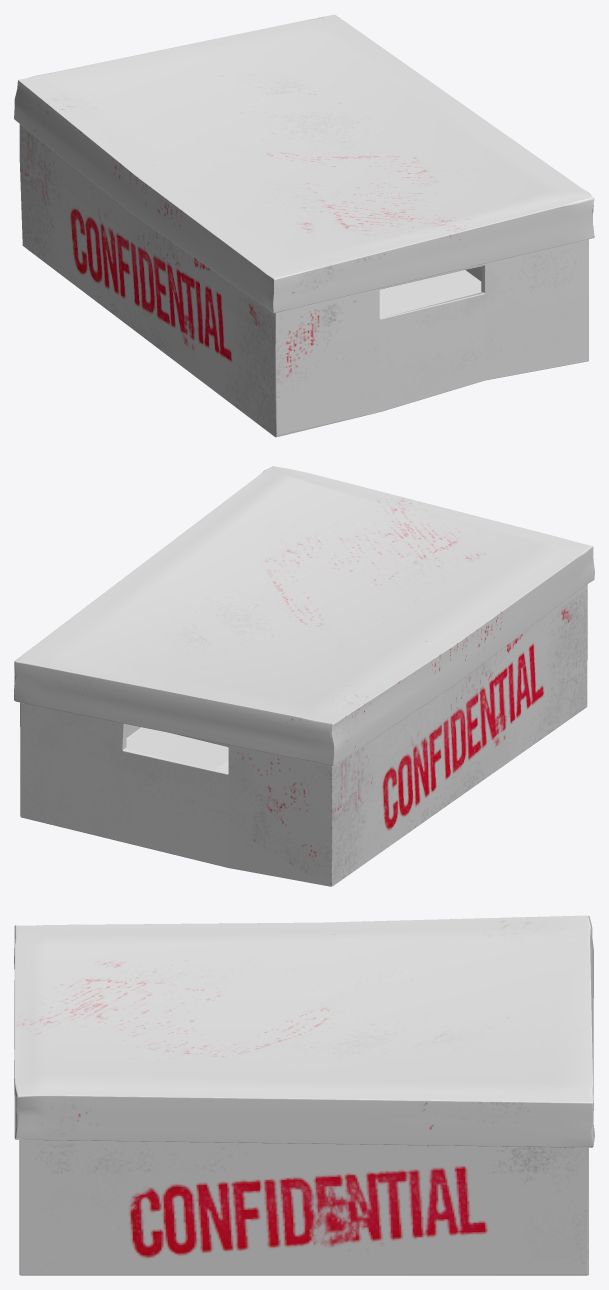
The picture shows the model from 3 angles, top to bottom: view 1: azimuth 30°, elevation 25°; view 2: azimuth 150°, elevation 25°; view 3: azimuth 270°, elevation 25°; orthographic projection. The views are drawn at different scales.
Visible parts, largest first — view 1: pCube2, pCube1; view 2: pCube2, pCube1; view 3: pCube2, pCube1.
Part boxes in pixels (x1,y1,x2,y2): pCube2: (14, 14, 594, 313); pCube1: (19, 124, 588, 437); pCube2: (14, 466, 594, 765); pCube1: (20, 584, 587, 886); pCube2: (14, 915, 594, 1147); pCube1: (19, 1140, 588, 1275).
Size of the model in its own units: 217 by 109 by 303.
Materials: 1 (1 with a texture image).
